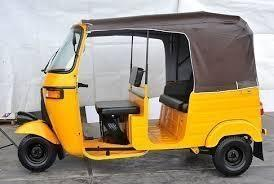keke: (17, 3, 271, 178)
